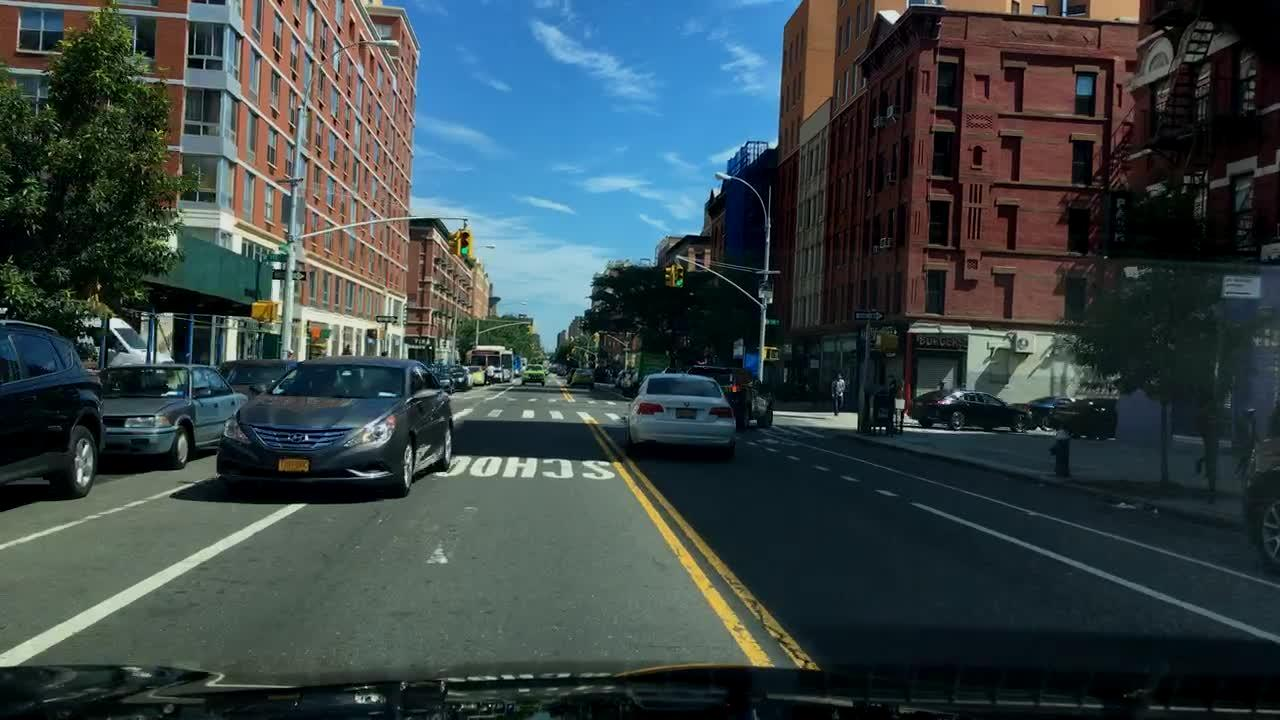Hyundai: (281, 424, 317, 449)
